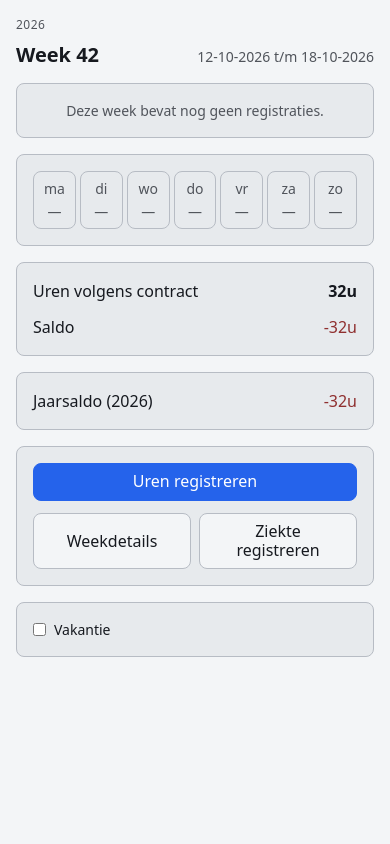
it: DashboardPage › voegt via het formulier een registratie toe met de standaardwaarden van het profiel
Click the button "Uren registreren". click: (195, 482)
box: [33, 463, 357, 501]
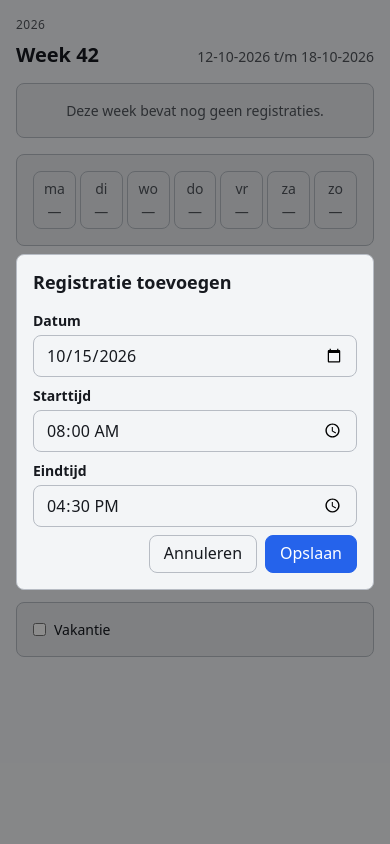
Type "2026-10-14" into the date field with id "registration-date". click: (195, 356)
box: [33, 335, 357, 377]
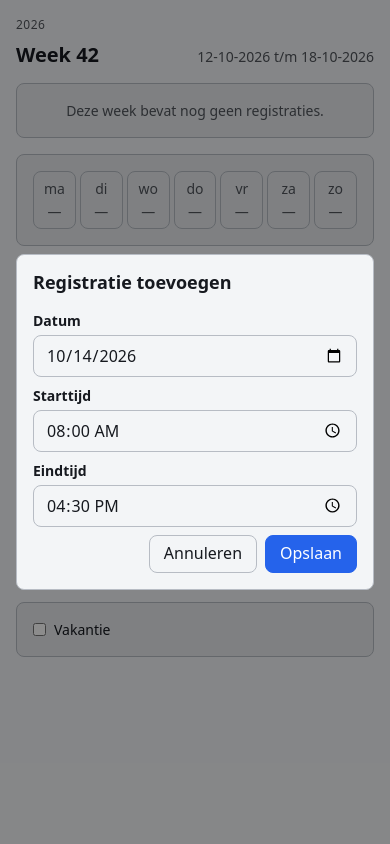
Replace the text in the time field with id "registration-start" with "09:00". click: (195, 431)
box: [33, 410, 357, 452]
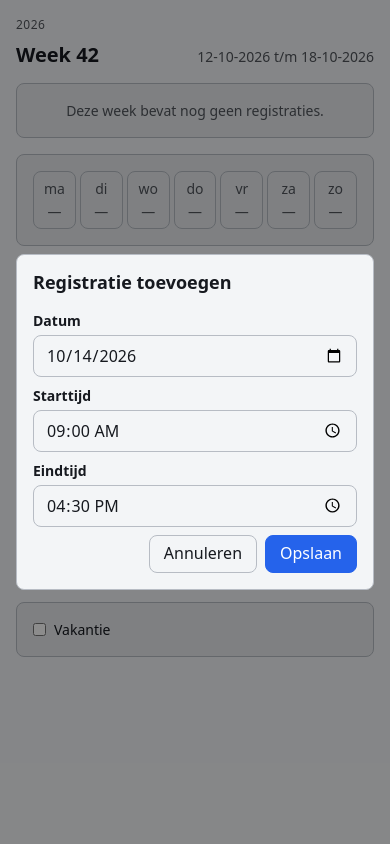
Replace the text in the time field with id "registration-end" with "17:30". click: (195, 506)
box: [33, 485, 357, 527]
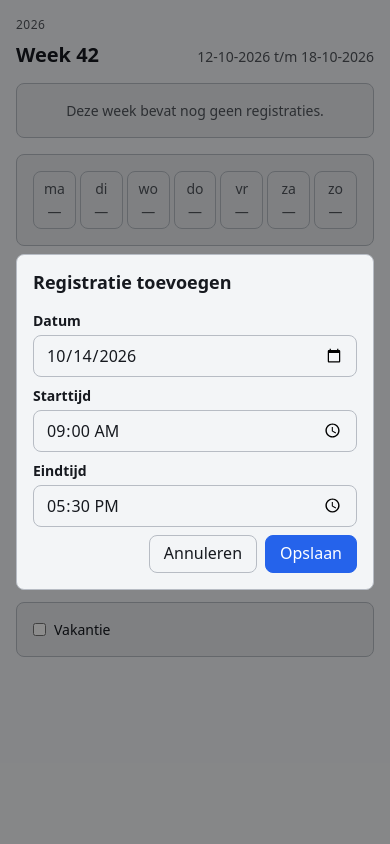
Submit the form, box [33, 310, 357, 573]
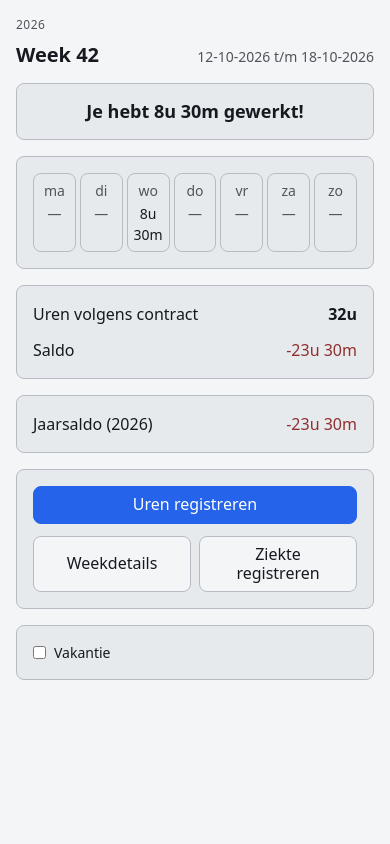
Expected: the text "Je hebt 8u 30m gewerkt!" is shown, [86, 99, 304, 123]
